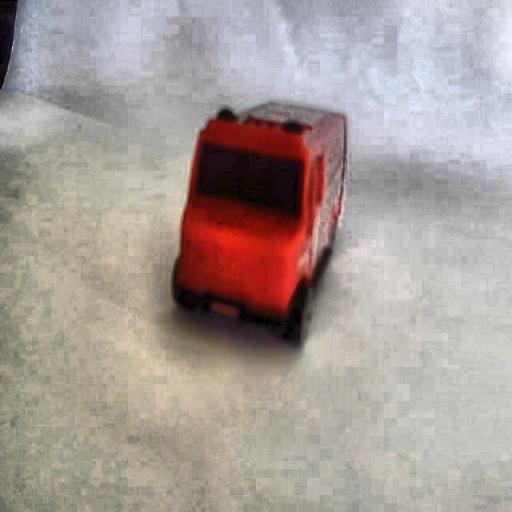fire_truck: (172, 108, 350, 349)
